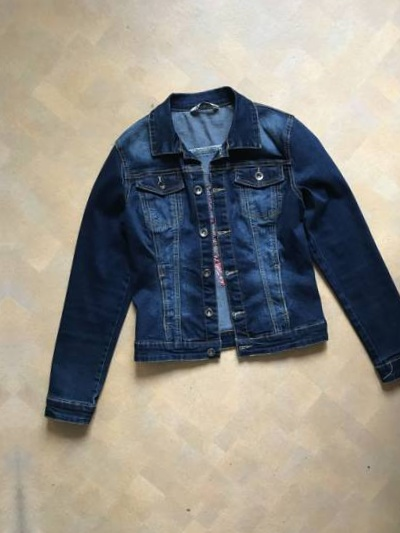Blazer: (0, 75, 400, 446), (0, 100, 12, 471)
